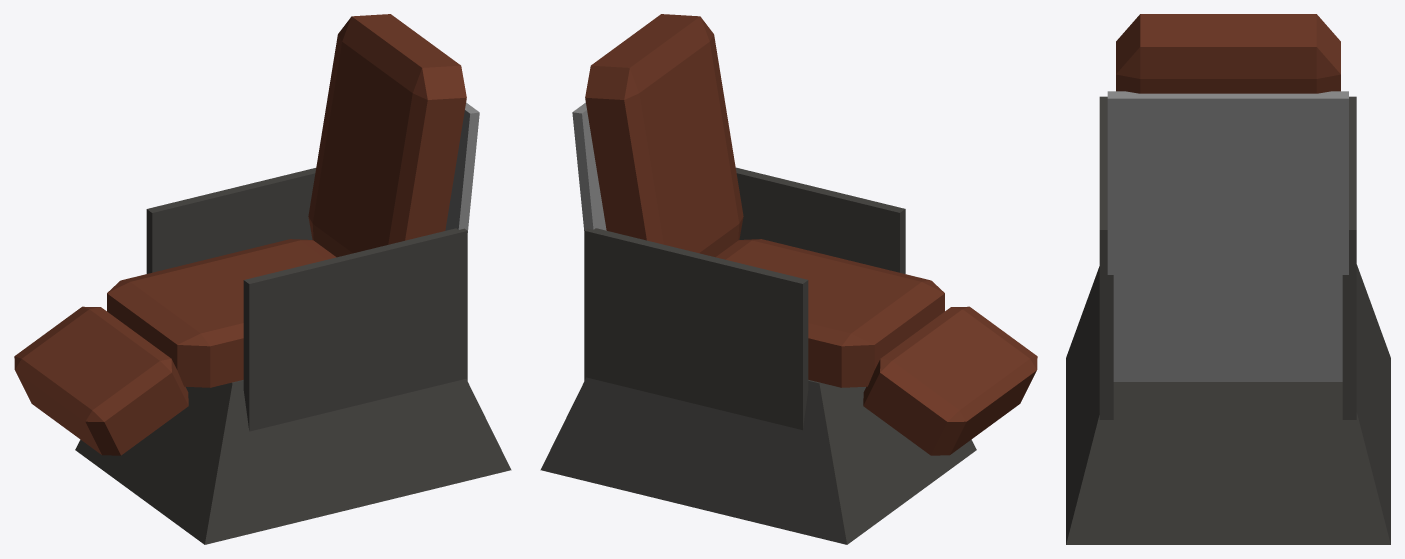
File: Armchair.fbx
The picture shows the model from 3 angles, left to right: view 1: azimuth 30°, elevation 25°; view 2: azimuth 150°, elevation 25°; view 3: azimuth 270°, elevation 25°; orthographic projection. The views are drawn at different scales.
Visible parts, largest first — view 1: Cube.009, Cube.011, Cube.013, Cube.015, Cube.014, Cube.010, Cube.012; view 2: Cube.009, Cube.010, Cube.013, Cube.015, Cube.014, Cube.011, Cube.012; view 3: Cube.012, Cube.009, Cube.013, Cube.011, Cube.010.
Part boxes in pixels (x1,y1,x2,y2): Cube.009: (75,379,511,544); Cube.011: (243,228,467,431); Cube.013: (308,14,466,257); Cube.015: (14,306,188,455); Cube.014: (107,239,336,387); Cube.010: (146,168,315,273); Cube.012: (445,102,479,232); Cube.009: (540,377,976,544); Cube.010: (584,228,808,430); Cube.013: (585,14,743,257); Cube.015: (863,306,1037,455); Cube.014: (716,239,944,387); Cube.011: (736,167,905,273); Cube.012: (572,102,606,230); Cube.012: (1107,91,1348,381); Cube.009: (1066,264,1390,544); Cube.013: (1116,14,1340,93); Cube.011: (1099,96,1113,419); Cube.010: (1342,96,1356,419).
Bounding box in the file's own units: 256 × 244 × 145.
